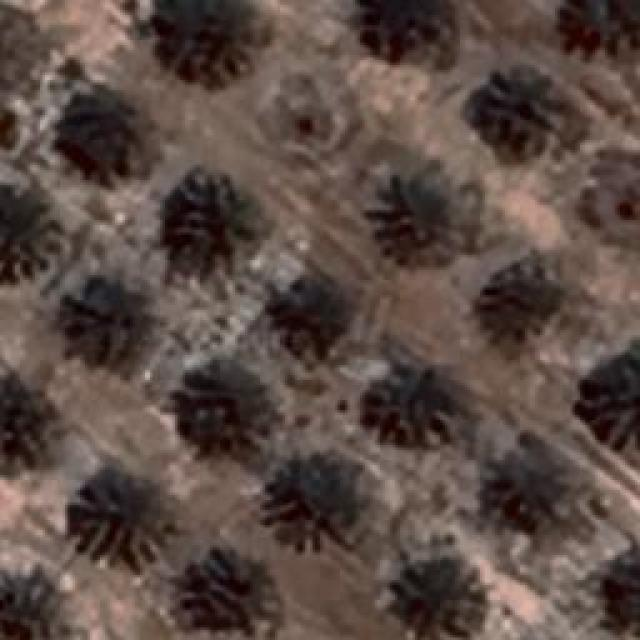PalmTree: (156, 166, 264, 282), (361, 162, 474, 268), (168, 354, 282, 456), (257, 450, 365, 552), (65, 465, 173, 565), (166, 546, 279, 636), (464, 64, 566, 162), (480, 435, 578, 535), (51, 85, 149, 185), (150, 0, 272, 80), (382, 548, 490, 638), (60, 271, 158, 369), (360, 352, 462, 446), (472, 255, 568, 353), (260, 270, 355, 362), (1, 174, 69, 286), (351, 0, 461, 65), (582, 340, 638, 450), (0, 362, 58, 466), (1, 564, 69, 638), (590, 535, 640, 630), (557, 0, 640, 55)
